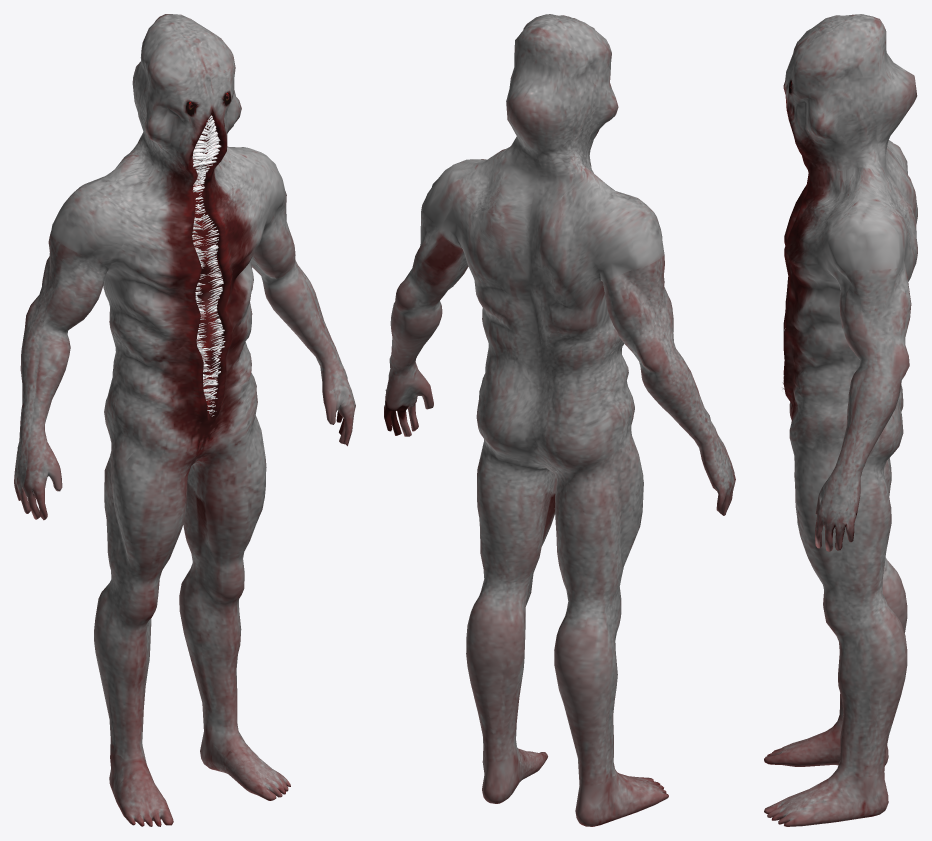
File: escape_the_backrooms_skinstealer.glb
The picture shows the model from 3 angles, left to right: view 1: azimuth 30°, elevation 25°; view 2: azimuth 150°, elevation 25°; view 3: azimuth 270°, elevation 25°; orthographic projection. The views are drawn at different scales.
Parts seen in each view (by area): view 1: GLTF_created_0; view 2: GLTF_created_0; view 3: GLTF_created_0.
Boxes of the visible parts, bbox=[...] form: GLTF_created_0: bbox=[14, 14, 355, 826]; GLTF_created_0: bbox=[384, 14, 735, 826]; GLTF_created_0: bbox=[764, 14, 917, 826].
Bounding box in the file's own units: 6.26 × 13.66 × 2.47.
Materials: 1 (1 with a texture image).
